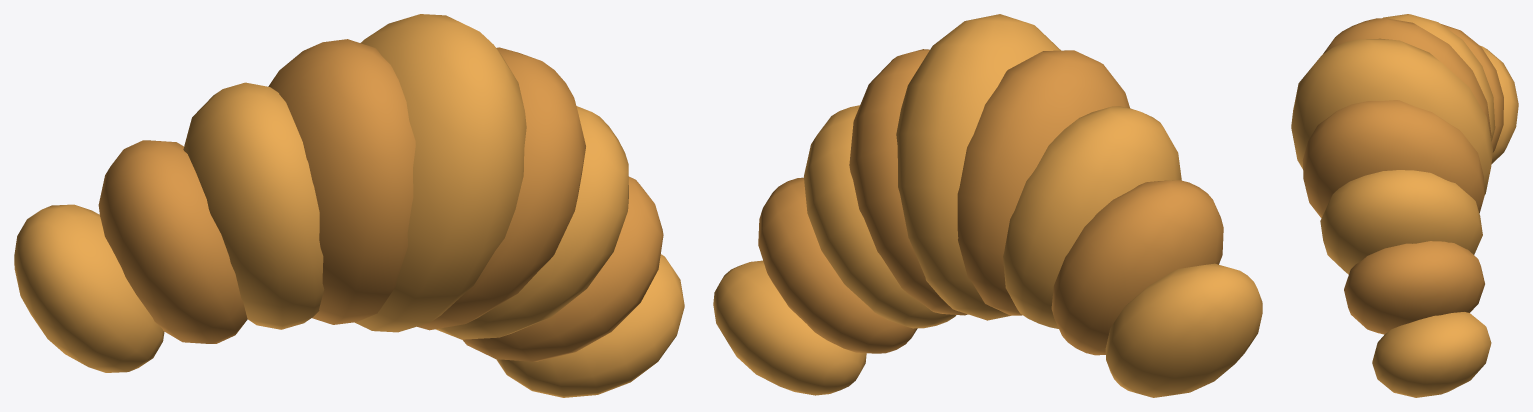
File: croissant.glb
The picture shows the model from 3 angles, left to right: view 1: azimuth 30°, elevation 25°; view 2: azimuth 150°, elevation 25°; view 3: azimuth 270°, elevation 25°; orthographic projection. The views are drawn at different scales.
Visible parts, largest first — view 1: croissant; view 2: croissant; view 3: croissant.
Boxes of the visible parts, x1,y1,x2,y2 form: croissant: (14,14,684,397); croissant: (713,14,1262,397); croissant: (1291,14,1518,397).
Size of the model in its own units: 0.9329 by 0.61 by 0.4286.
